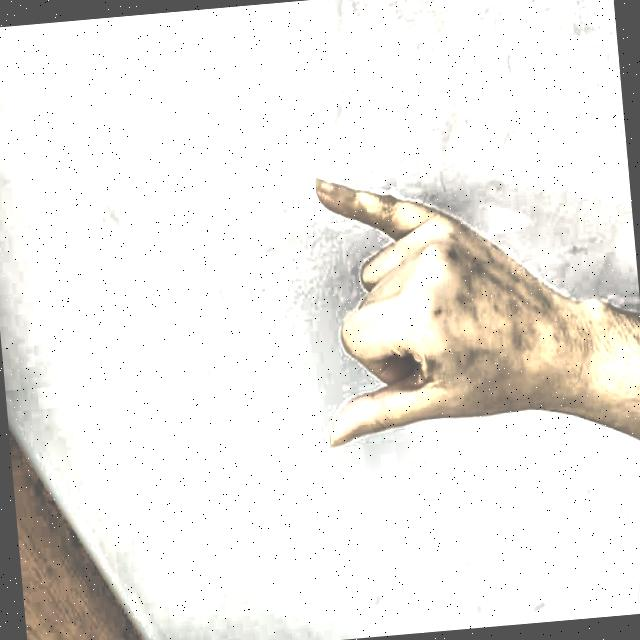Oi: (266, 123, 578, 490)
